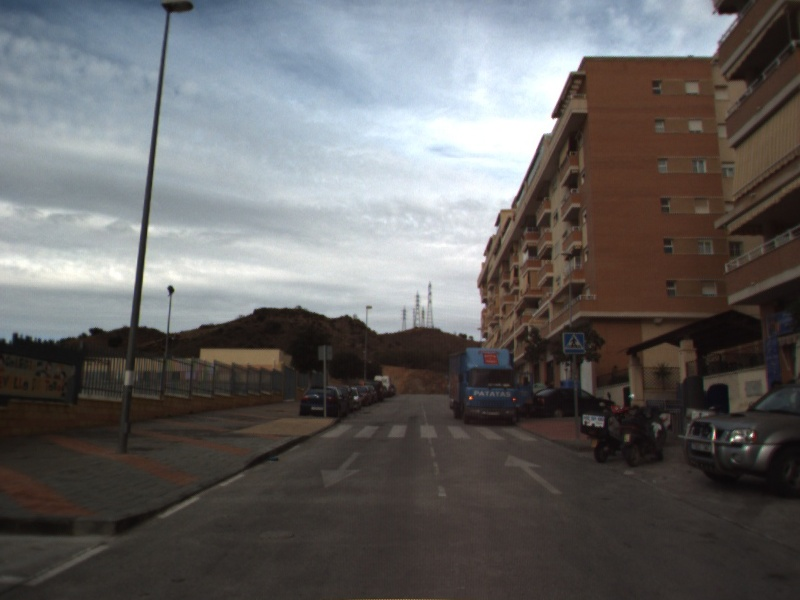STRAIGHT: (503, 453, 565, 496)
